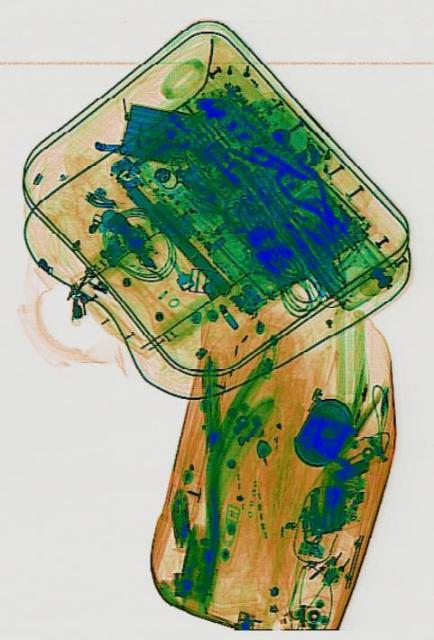Pliers: (272, 146, 347, 244)
